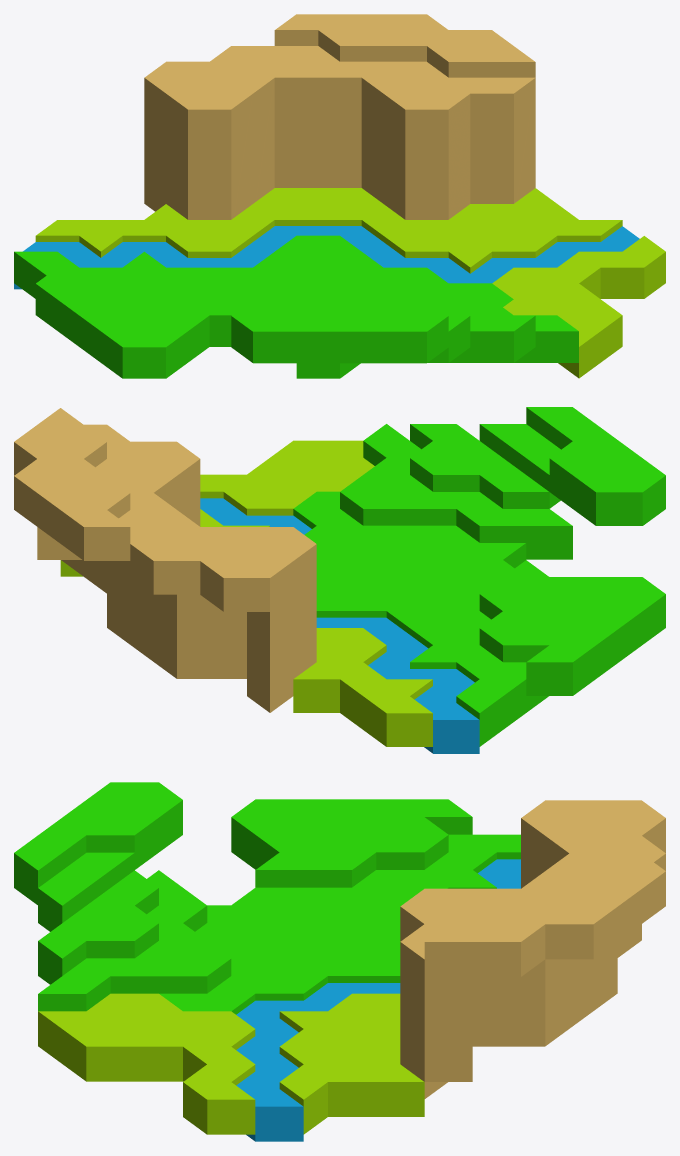
The model's file is GameBoard Hexagon 1.fbx.
3 renders of one model, top to bottom at view 1: azimuth 30°, elevation 25°; view 2: azimuth 150°, elevation 25°; view 3: azimuth 270°, elevation 25°, orthographic. The views are drawn at different scales.
Visible parts, largest first — view 1: Circle.048, Circle.108, Circle.234, Circle.360, Circle.140, Circle.345, Circle.109, Circle.235, Circle.237, Circle.018, Circle.362, Circle.244 (+45 smaller); view 2: Circle.345, Circle.240, Circle.044, Circle.353, Circle.340, Circle.354, Circle.238, Circle.123, Circle.318, Circle.148, Circle.077, Circle.147 (+57 smaller); view 3: Circle.132, Circle.047, Circle.362, Circle.236, Circle.151, Circle.075, Circle.297, Circle.369, Circle.023, Circle.336, Circle.266, Circle.268 (+52 smaller).
Part boxes in pixels (left/top/right/bottom): Circle.048: left=274, top=62, right=318, bottom=187; Circle.108: left=188, top=93, right=231, bottom=219; Circle.234: left=405, top=94, right=448, bottom=219; Circle.360: left=470, top=78, right=513, bottom=203; Circle.140: left=318, top=62, right=361, bottom=187; Circle.345: left=144, top=77, right=187, bottom=211; Circle.109: left=361, top=77, right=404, bottom=203; Circle.235: left=383, top=93, right=426, bottom=219; Circle.237: left=427, top=93, right=470, bottom=219; Circle.018: left=231, top=77, right=274, bottom=203; Circle.362: left=492, top=77, right=535, bottom=203; Circle.244: left=210, top=93, right=252, bottom=219; Circle.345: left=247, top=561, right=293, bottom=712; Circle.240: left=177, top=527, right=223, bottom=678; Circle.044: left=270, top=544, right=316, bottom=678; Circle.353: left=153, top=527, right=199, bottom=678; Circle.340: left=153, top=544, right=200, bottom=594; Circle.354: left=130, top=510, right=176, bottom=661; Circle.238: left=223, top=527, right=269, bottom=678; Circle.123: left=526, top=509, right=572, bottom=559; Circle.318: left=433, top=703, right=479, bottom=753; Circle.148: left=223, top=561, right=269, bottom=611; Circle.077: left=84, top=510, right=130, bottom=560; Circle.147: left=293, top=662, right=339, bottom=712; Circle.132: left=424, top=924, right=472, bottom=1081; Circle.047: left=497, top=889, right=545, bottom=1046; Circle.362: left=400, top=941, right=447, bottom=1098; Circle.236: left=449, top=889, right=496, bottom=1046; Circle.151: left=545, top=906, right=593, bottom=959; Circle.075: left=86, top=1029, right=134, bottom=1081; Circle.297: left=255, top=1089, right=303, bottom=1141; Circle.369: left=134, top=1029, right=182, bottom=1081; Circle.023: left=207, top=1082, right=255, bottom=1134; Circle.336: left=472, top=924, right=520, bottom=976; Circle.266: left=328, top=1064, right=376, bottom=1116; Circle.268: left=376, top=1064, right=424, bottom=1116.
Bounding box in the file's own units: 1.73 × 0.52 × 1.69.
